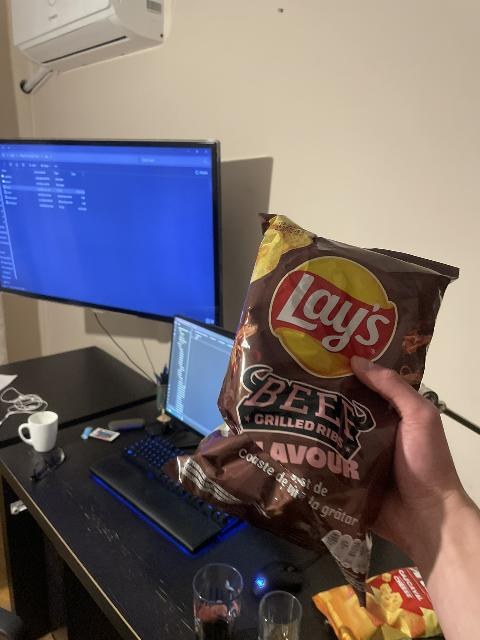Chio Cascaval 125g: (316, 563, 443, 640)
Lays Beef Grilled Ribs 125g: (162, 212, 458, 601)
